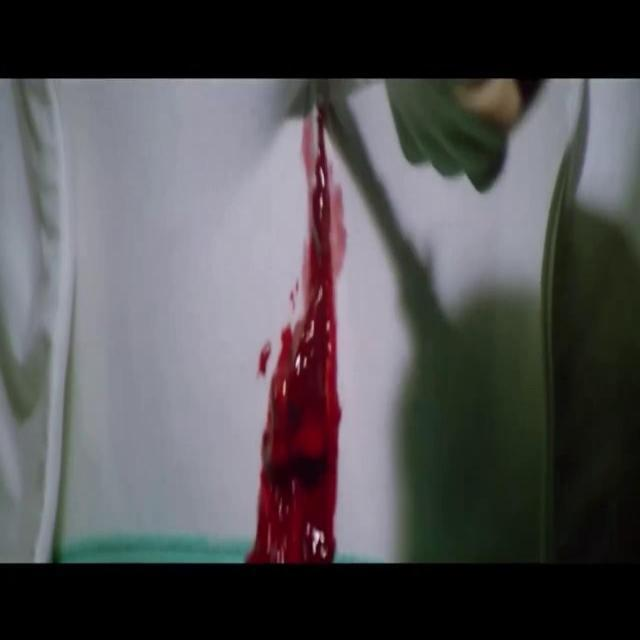knife: (245, 102, 343, 562)
